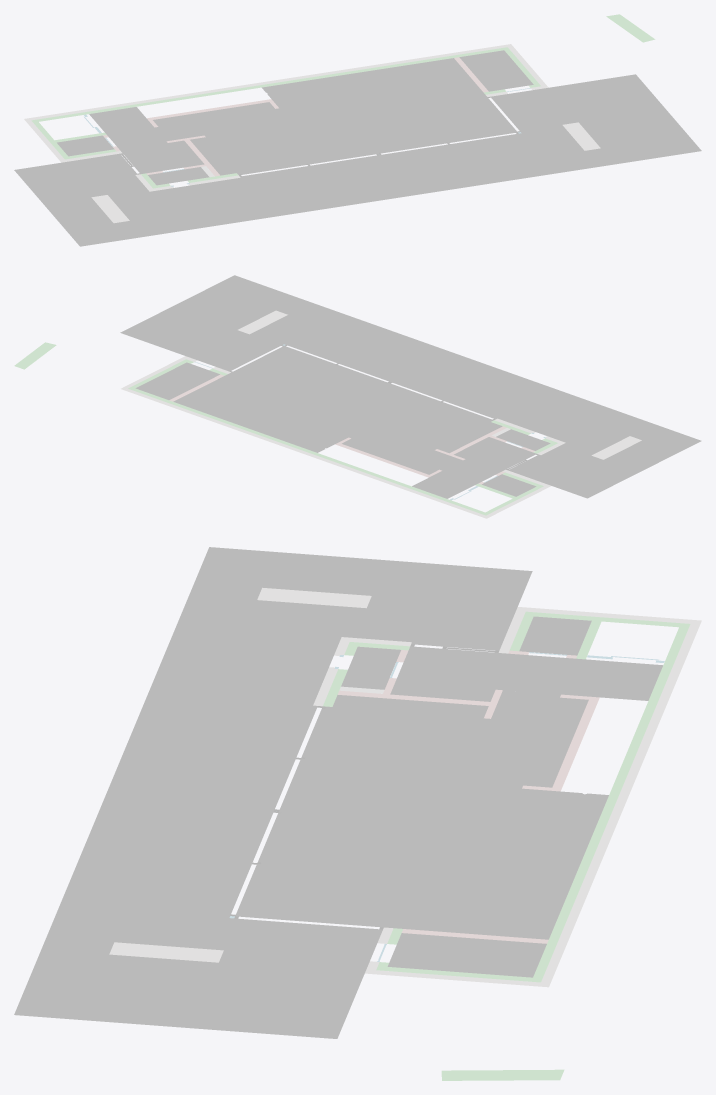
File: floor-494700.glb
3 renders of one model, top to bottom at view 1: azimuth 30°, elevation 25°; view 2: azimuth 150°, elevation 25°; view 3: azimuth 270°, elevation 25°, orthographic. The views are drawn at different scales.
Visible parts, largest first — view 1: SectionBody_8,b683faed-fb9d-4cc6-b100-20de4a1bdad3, SectionBody_28,c4d4f5d7-260c-4ad4-a9ce-62868acbba62, SectionBody_60,63c04251-d135-4bce-8152-a9d17808b4c5, SectionBody_64,2d03ef07-ffb8-4f88-878f-c5a2b548d946, SectionBody_39,dc67b657-ab68-42d4-8bbd-9122a325cf12, SectionBody_38,dc67b657-ab68-42d4-8bbd-9122a325cf12, SectionBody_69,40f009c5-f6c7-4ef2-8b93-dde184843d29, SectionBody_36,89b1fc52-30c9-421b-8aba-7937692566b4, SectionBody_37,795bc6dd-ffb6-464f-bd53-32254240021a, SectionBody_66,afa63a6e-7fae-4072-89ff-7fe7ec9445ff, SectionBody_67,739839fe-582c-46f9-984d-6acb4318c601, SectionBody_51,9666f702-09d8-429c-ab40-5c51cb5530fb; view 2: SectionBody_8,b683faed-fb9d-4cc6-b100-20de4a1bdad3, SectionBody_28,c4d4f5d7-260c-4ad4-a9ce-62868acbba62, SectionBody_60,63c04251-d135-4bce-8152-a9d17808b4c5, SectionBody_64,2d03ef07-ffb8-4f88-878f-c5a2b548d946, SectionBody_39,dc67b657-ab68-42d4-8bbd-9122a325cf12, SectionBody_38,dc67b657-ab68-42d4-8bbd-9122a325cf12, SectionBody_69,40f009c5-f6c7-4ef2-8b93-dde184843d29, SectionBody_36,89b1fc52-30c9-421b-8aba-7937692566b4, SectionBody_37,795bc6dd-ffb6-464f-bd53-32254240021a, SectionBody_66,afa63a6e-7fae-4072-89ff-7fe7ec9445ff, SectionBody_67,739839fe-582c-46f9-984d-6acb4318c601; view 3: SectionBody_8,b683faed-fb9d-4cc6-b100-20de4a1bdad3, SectionBody_28,c4d4f5d7-260c-4ad4-a9ce-62868acbba62, SectionBody_60,63c04251-d135-4bce-8152-a9d17808b4c5, SectionBody_64,2d03ef07-ffb8-4f88-878f-c5a2b548d946, SectionBody_39,dc67b657-ab68-42d4-8bbd-9122a325cf12, SectionBody_38,dc67b657-ab68-42d4-8bbd-9122a325cf12, SectionBody_69,40f009c5-f6c7-4ef2-8b93-dde184843d29, SectionBody_36,89b1fc52-30c9-421b-8aba-7937692566b4, SectionBody_37,795bc6dd-ffb6-464f-bd53-32254240021a, SectionBody_66,afa63a6e-7fae-4072-89ff-7fe7ec9445ff, SectionBody_67,739839fe-582c-46f9-984d-6acb4318c601, SectionBody_51,9666f702-09d8-429c-ab40-5c51cb5530fb (+4 smaller).
Part boxes in pixels (bbox=[...]): SectionBody_8,b683faed-fb9d-4cc6-b100-20de4a1bdad3: bbox=[14, 74, 701, 246]; SectionBody_28,c4d4f5d7-260c-4ad4-a9ce-62868acbba62: bbox=[153, 58, 517, 175]; SectionBody_60,63c04251-d135-4bce-8152-a9d17808b4c5: bbox=[89, 107, 204, 173]; SectionBody_64,2d03ef07-ffb8-4f88-878f-c5a2b548d946: bbox=[459, 50, 533, 91]; SectionBody_39,dc67b657-ab68-42d4-8bbd-9122a325cf12: bbox=[29, 45, 507, 120]; SectionBody_38,dc67b657-ab68-42d4-8bbd-9122a325cf12: bbox=[37, 48, 503, 121]; SectionBody_69,40f009c5-f6c7-4ef2-8b93-dde184843d29: bbox=[57, 135, 114, 156]; SectionBody_36,89b1fc52-30c9-421b-8aba-7937692566b4: bbox=[148, 167, 209, 185]; SectionBody_37,795bc6dd-ffb6-464f-bd53-32254240021a: bbox=[562, 122, 600, 150]; SectionBody_66,afa63a6e-7fae-4072-89ff-7fe7ec9445ff: bbox=[91, 195, 129, 223]; SectionBody_67,739839fe-582c-46f9-984d-6acb4318c601: bbox=[606, 14, 655, 42]; SectionBody_51,9666f702-09d8-429c-ab40-5c51cb5530fb: bbox=[147, 99, 272, 120]; SectionBody_8,b683faed-fb9d-4cc6-b100-20de4a1bdad3: bbox=[120, 275, 701, 498]; SectionBody_28,c4d4f5d7-260c-4ad4-a9ce-62868acbba62: bbox=[173, 346, 502, 474]; SectionBody_60,63c04251-d135-4bce-8152-a9d17808b4c5: bbox=[412, 437, 536, 498]; SectionBody_64,2d03ef07-ffb8-4f88-878f-c5a2b548d946: bbox=[135, 362, 219, 399]; SectionBody_39,dc67b657-ab68-42d4-8bbd-9122a325cf12: bbox=[125, 388, 485, 517]; SectionBody_38,dc67b657-ab68-42d4-8bbd-9122a325cf12: bbox=[132, 388, 484, 513]; SectionBody_69,40f009c5-f6c7-4ef2-8b93-dde184843d29: bbox=[482, 474, 536, 496]; SectionBody_36,89b1fc52-30c9-421b-8aba-7937692566b4: bbox=[496, 429, 550, 450]; SectionBody_37,795bc6dd-ffb6-464f-bd53-32254240021a: bbox=[238, 310, 287, 334]; SectionBody_66,afa63a6e-7fae-4072-89ff-7fe7ec9445ff: bbox=[591, 436, 641, 459]; SectionBody_67,739839fe-582c-46f9-984d-6acb4318c601: bbox=[14, 342, 56, 369]; SectionBody_8,b683faed-fb9d-4cc6-b100-20de4a1bdad3: bbox=[14, 547, 532, 1038]; SectionBody_28,c4d4f5d7-260c-4ad4-a9ce-62868acbba62: bbox=[235, 690, 608, 939]; SectionBody_60,63c04251-d135-4bce-8152-a9d17808b4c5: bbox=[390, 646, 662, 701]; SectionBody_64,2d03ef07-ffb8-4f88-878f-c5a2b548d946: bbox=[387, 933, 546, 977]; SectionBody_39,dc67b657-ab68-42d4-8bbd-9122a325cf12: bbox=[541, 624, 699, 983]; SectionBody_38,dc67b657-ab68-42d4-8bbd-9122a325cf12: bbox=[533, 627, 688, 978]; SectionBody_69,40f009c5-f6c7-4ef2-8b93-dde184843d29: bbox=[519, 616, 591, 655]; SectionBody_36,89b1fc52-30c9-421b-8aba-7937692566b4: bbox=[341, 646, 400, 689]; SectionBody_37,795bc6dd-ffb6-464f-bd53-32254240021a: bbox=[109, 942, 223, 962]; SectionBody_66,afa63a6e-7fae-4072-89ff-7fe7ec9445ff: bbox=[257, 587, 371, 608]; SectionBody_67,739839fe-582c-46f9-984d-6acb4318c601: bbox=[441, 1069, 564, 1080]; SectionBody_51,9666f702-09d8-429c-ab40-5c51cb5530fb: bbox=[551, 696, 599, 791].
Size of the model in its own units: 25662 by 0 by 13975.
